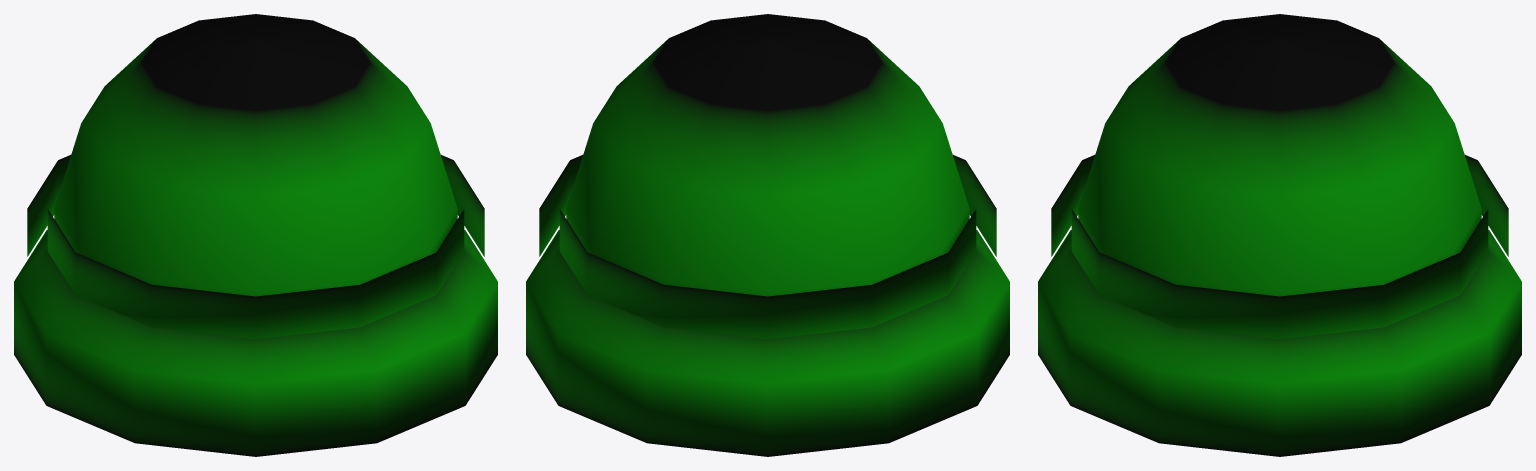
File: runwaylight.glb
3 renders of one model, left to right at view 1: azimuth 30°, elevation 25°; view 2: azimuth 150°, elevation 25°; view 3: azimuth 270°, elevation 25°, orthographic.
Parts seen in each view (by area): view 1: lod0; view 2: lod0; view 3: lod0.
Part boxes in pixels (x1,y1,x2,y2): lod0: (14,14,497,456); lod0: (526,14,1009,456); lod0: (1038,14,1521,456).
Size of what is drawn, in the model's own units: 0.72 by 0.52 by 0.72.
